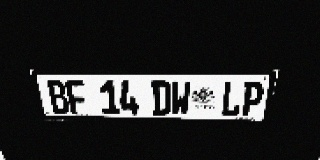1: (98, 80, 121, 115)
4: (118, 81, 139, 115)
B: (45, 80, 71, 114)
D: (151, 81, 171, 115)
F: (64, 80, 89, 114)
L: (220, 81, 244, 116)
P: (239, 81, 266, 116)
W: (171, 81, 191, 116)
